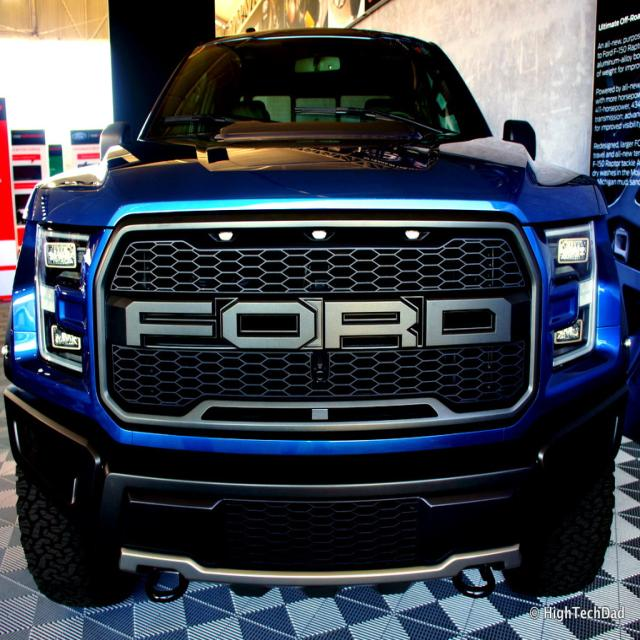car: (7, 38, 636, 614)
